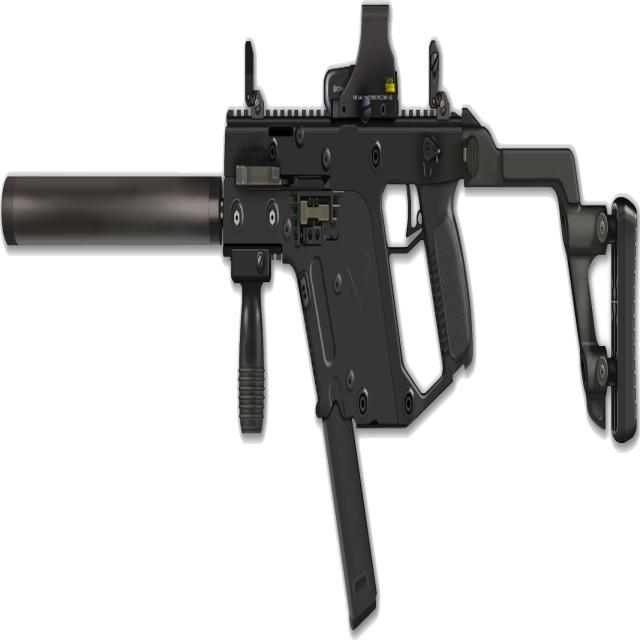SMG: (3, 2, 640, 640)
